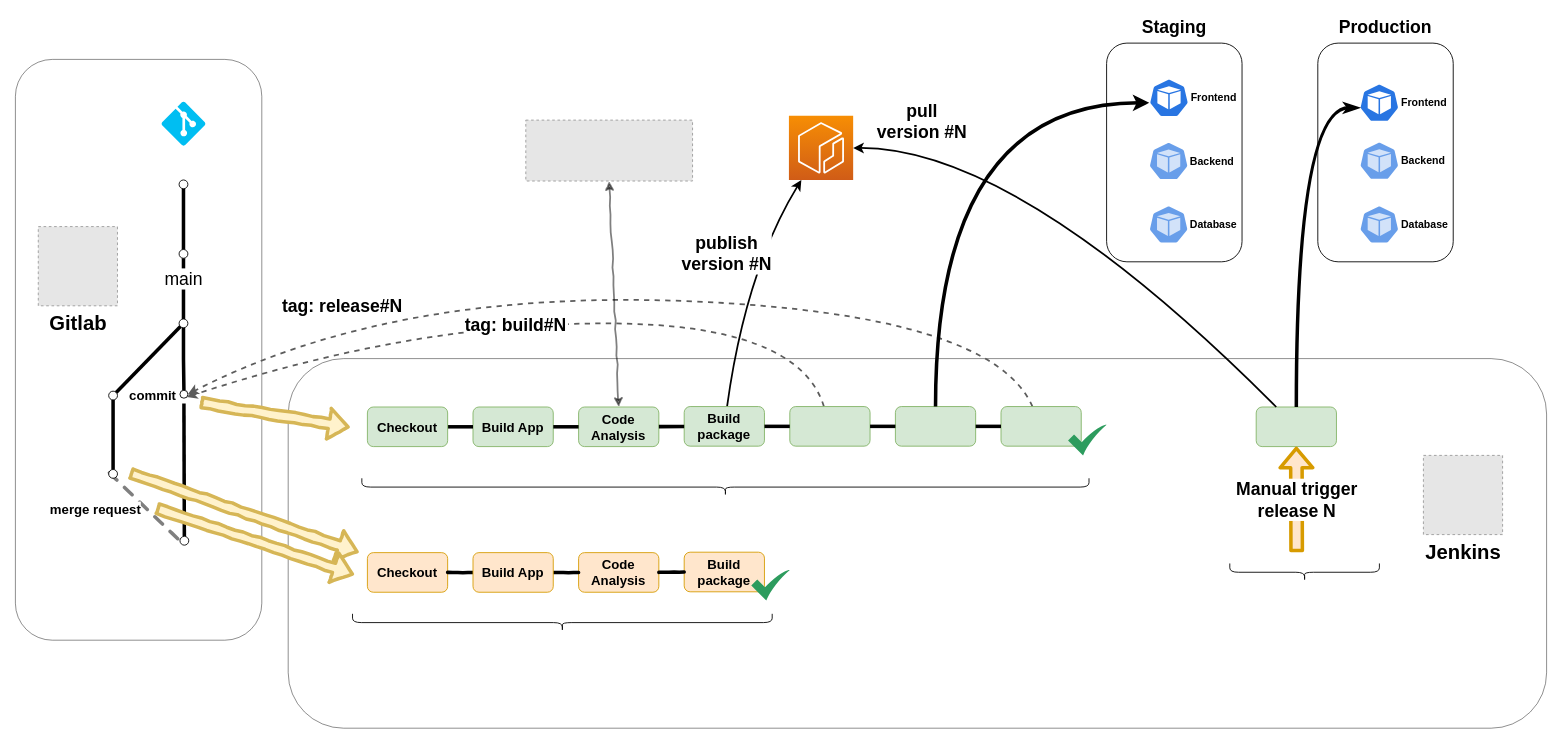
Image size: 1562x744. Some labels were removed from this diagram. Grey dashed boxes stand in for pictures. The box of each missing label's shape, as (x1, y1, x2, y2) in pixels:
account-frontend: (161, 101, 205, 145)
Deploy to Production: (1255, 406, 1336, 447)
Deploy to Staging: (895, 406, 976, 446)
Deployment pipeline: (1229, 563, 1379, 581)
features pipeline: (352, 613, 772, 631)
Gitlab Package Repository: (788, 115, 853, 180)
Release pipeline: (361, 477, 1089, 496)
Tag Build: (789, 406, 870, 446)
Tag Release: (1000, 406, 1081, 446)
